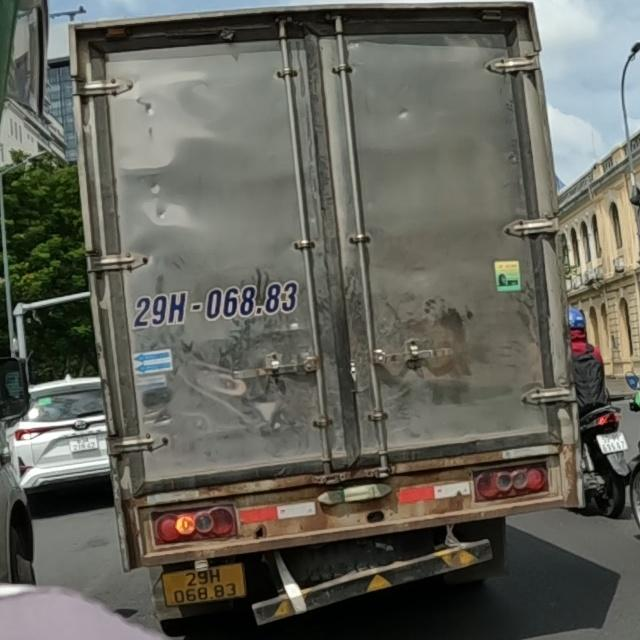license-plate: (161, 563, 249, 607), (596, 431, 629, 454), (69, 436, 100, 454)
